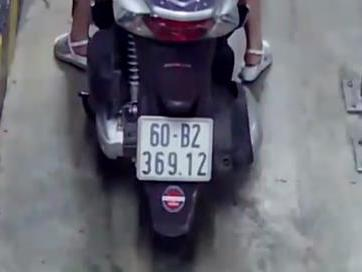num_plate: (134, 113, 219, 186)
